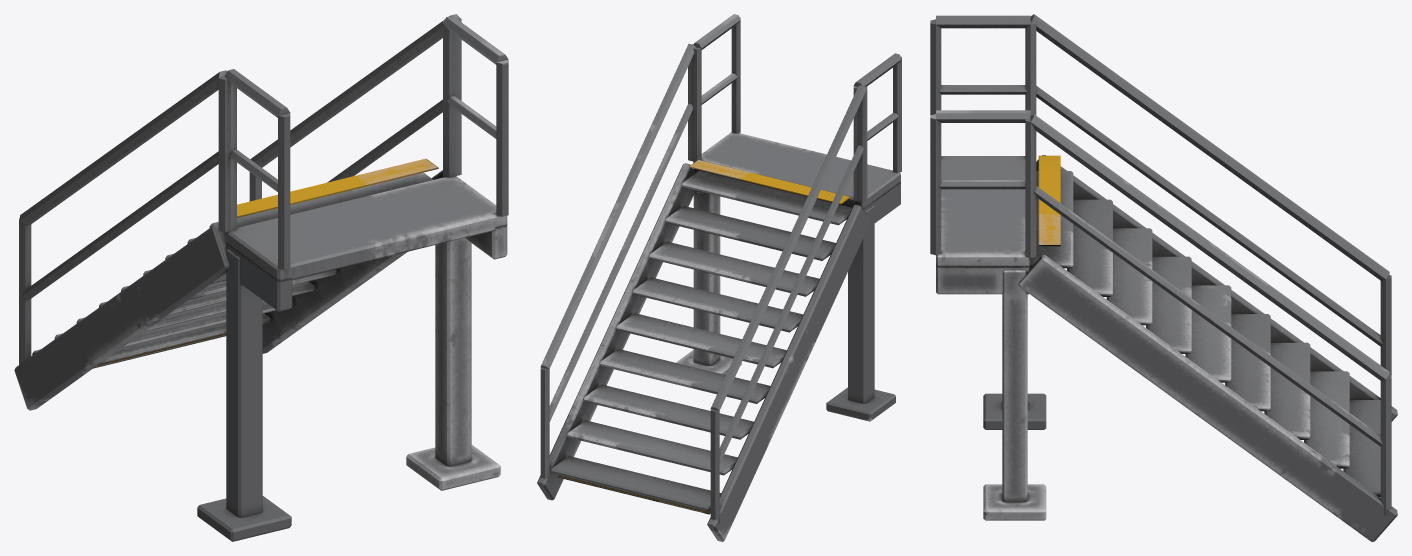
File: nodexeus-set-stair-ground.glb
The picture shows the model from 3 angles, left to right: view 1: azimuth 30°, elevation 25°; view 2: azimuth 150°, elevation 25°; view 3: azimuth 270°, elevation 25°; orthographic projection. The views are drawn at different scales.
Parts seen in each view (by area): view 1: set-stair-ground; view 2: set-stair-ground; view 3: set-stair-ground.
Boxes of the visible parts, x1=… form: set-stair-ground: x1=14, y1=14, x2=508, y2=541; set-stair-ground: x1=537, y1=14, x2=901, y2=541; set-stair-ground: x1=930, y1=14, x2=1397, y2=541.
Size of the model in its own units: 1.76 by 2.98 by 2.96.
1 material, 1 textured.
